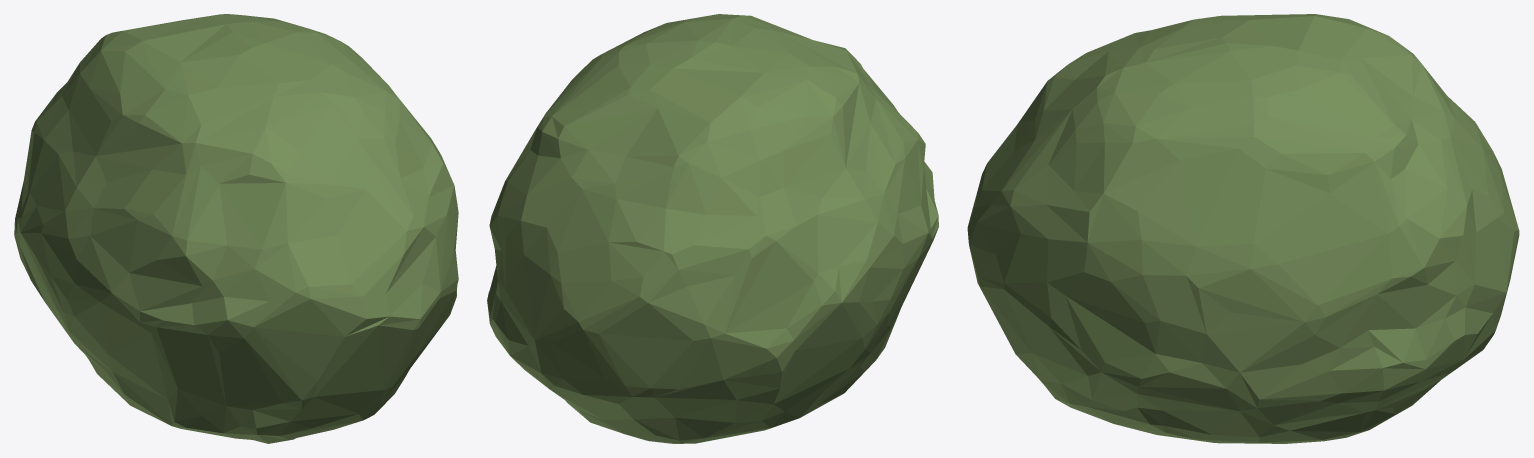
Rendered from LowPoly_Bush.fbx.
3 renders of one model, left to right at view 1: azimuth 30°, elevation 25°; view 2: azimuth 150°, elevation 25°; view 3: azimuth 270°, elevation 25°, orthographic. The views are drawn at different scales.
Visible parts, largest first — view 1: pPlatonic1; view 2: pPlatonic1; view 3: pPlatonic1.
Part boxes in pixels (x1=…): pPlatonic1: x1=14, y1=14, x2=458, y2=443; pPlatonic1: x1=487, y1=14, x2=938, y2=443; pPlatonic1: x1=967, y1=14, x2=1519, y2=443.
Size of the model in its own units: 9.29 by 9.12 by 11.8.
